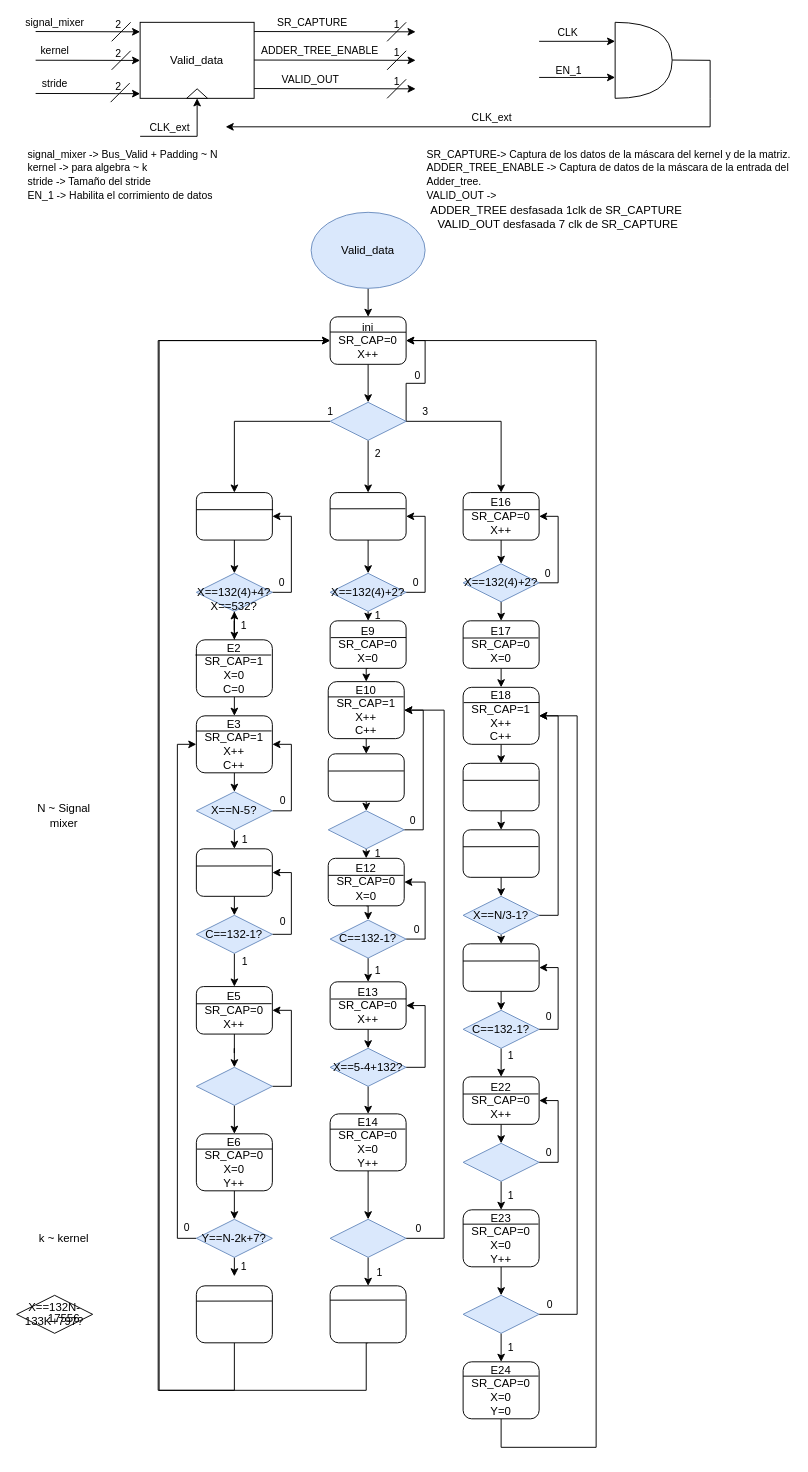
This 808x1472 diagram has some shape labels left out. The shapes that lost their labels are listed below. From the top down, each one's centre as x and y in pixels, then its label:
point (367, 420): Stride?
point (233, 516): E1 SR_CAP=0 X++
point (367, 516): E8 SR_CAP=0 X++
point (365, 777): E11 SR_CAP=0 X++
point (500, 786): E19 SR_CAP=0 X++
point (365, 829): X==(N/2)-2?
point (233, 872): E4 SR_CAP=0 X=0
point (500, 853): E20 SR_CAP=0 X++
point (500, 967): E21 SR_CAP=0 X=0
point (233, 1085): X==5-3 ?
point (500, 1161): X==264 ?
point (367, 1237): Y==(N-2k+7)/2 ?
point (233, 1314): E7 SR_CAP=0 X=0 Y=0
point (367, 1314): E15 SR_CAP=0 X=0 Y=0
point (500, 1313): Y==(N-2k+7)/3 ?
